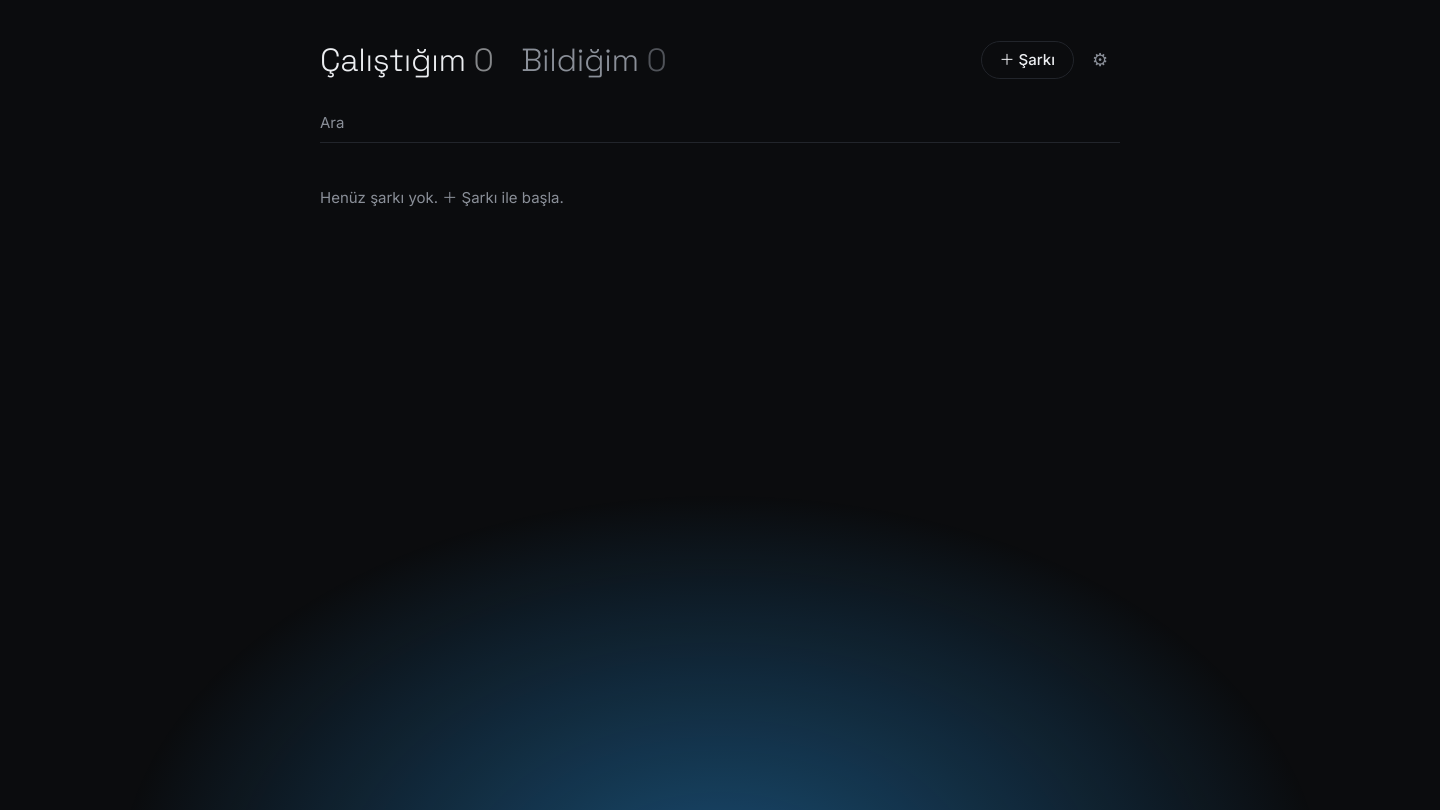
it: App › adding a song triggers exactly one cover search
Click the button "＋ Şarkı" at (1027, 60), box [981, 41, 1074, 79]
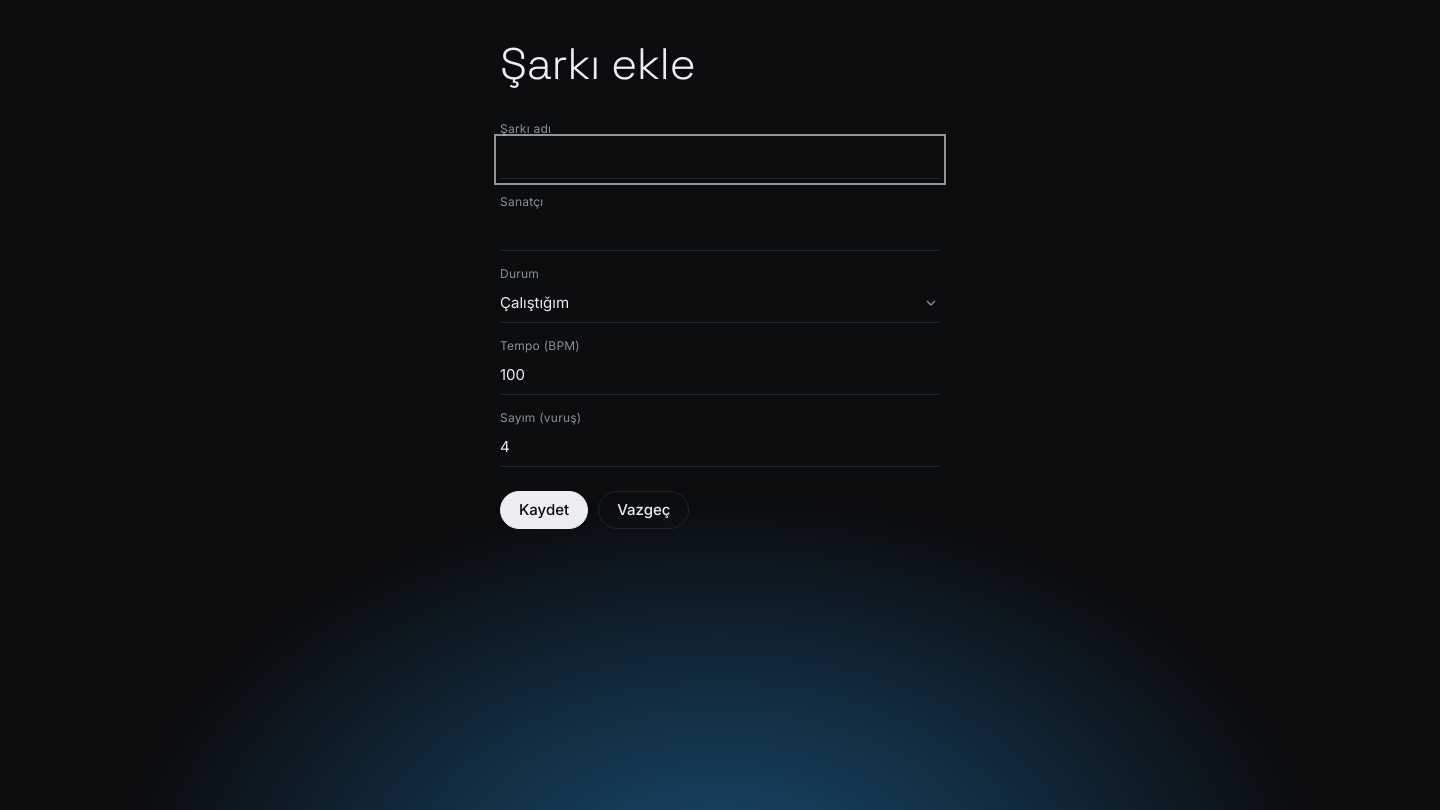
Type "Wonderwall" into the field labelled "Şarkı adı" at (720, 159), box [500, 140, 940, 179]
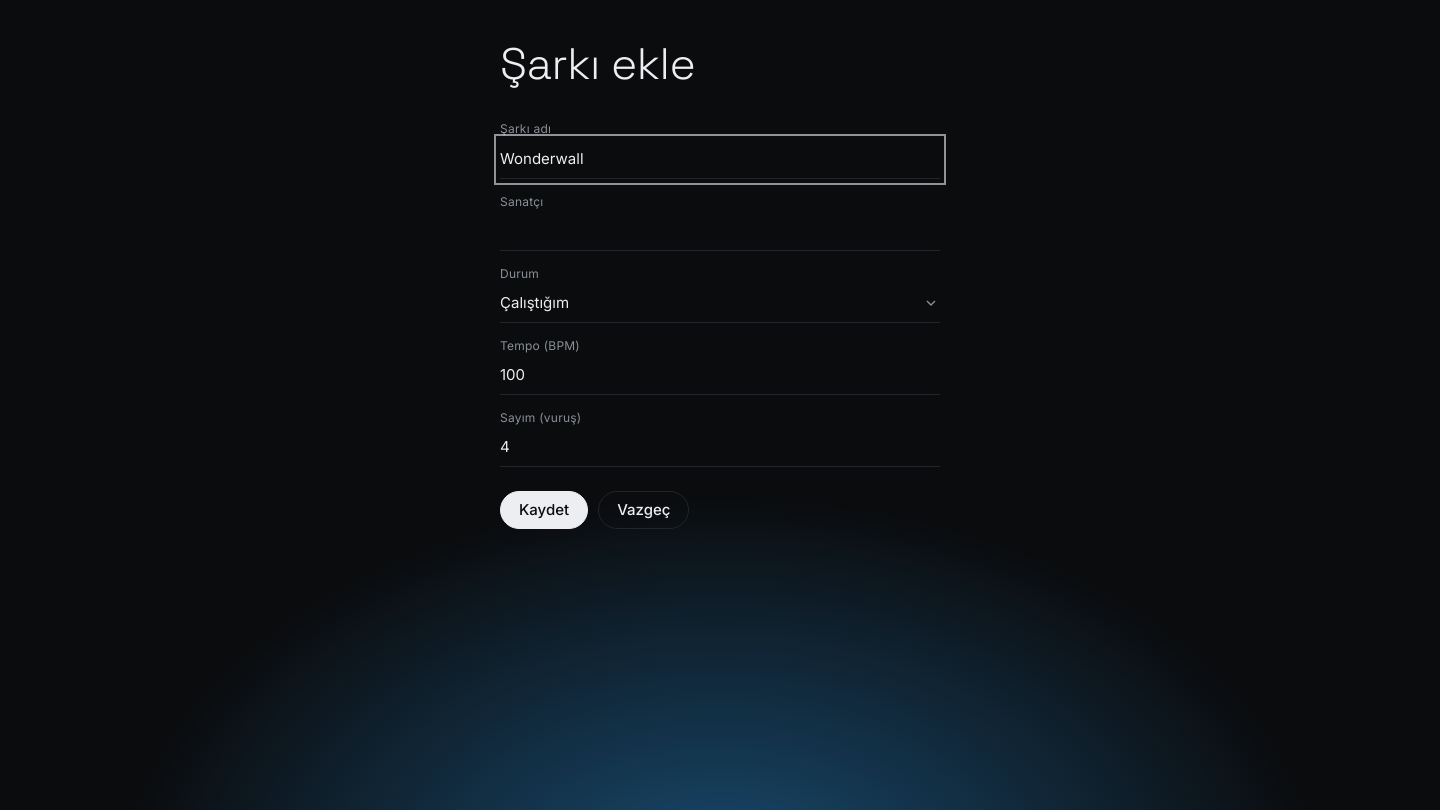
Type "Oasis" into the field labelled "Sanatçı" at (720, 231), box [500, 212, 940, 251]
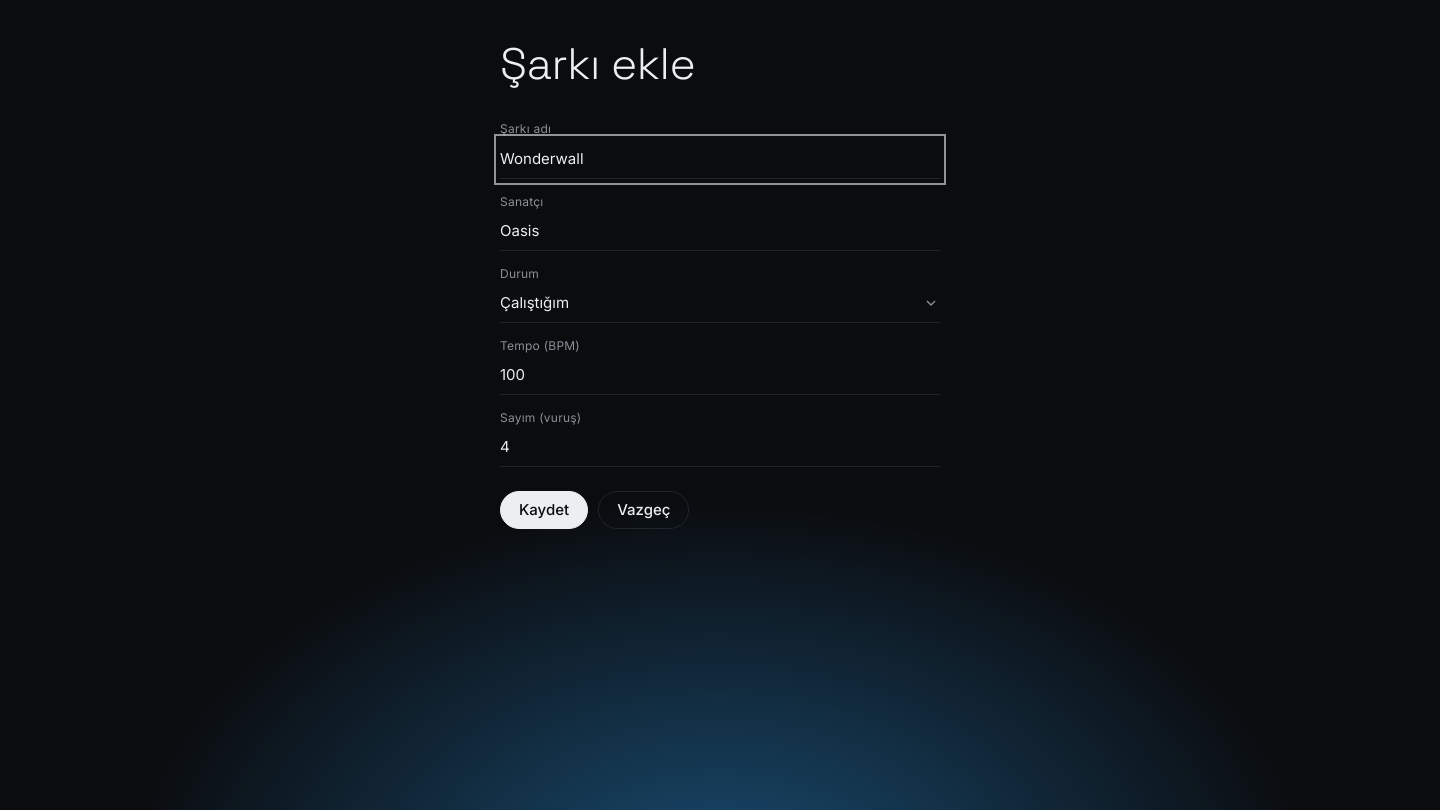
Click the button "Kaydet" at (544, 510), box [500, 491, 588, 529]
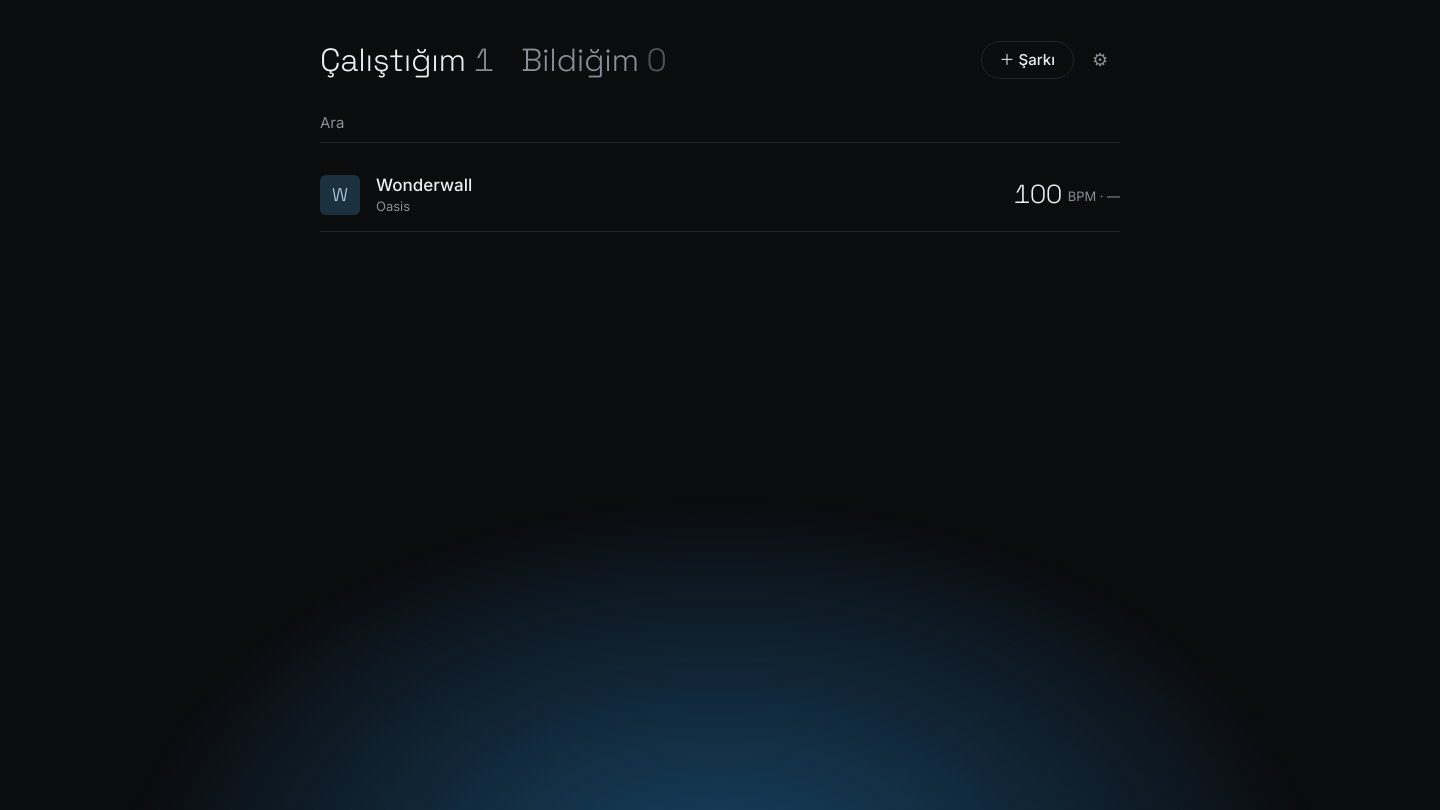
Check: the text "Wonderwall" is shown, box [376, 175, 472, 195]
